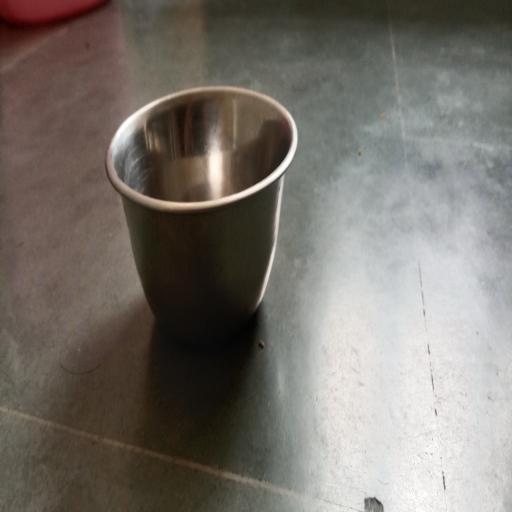Bowl: (105, 86, 298, 346)
